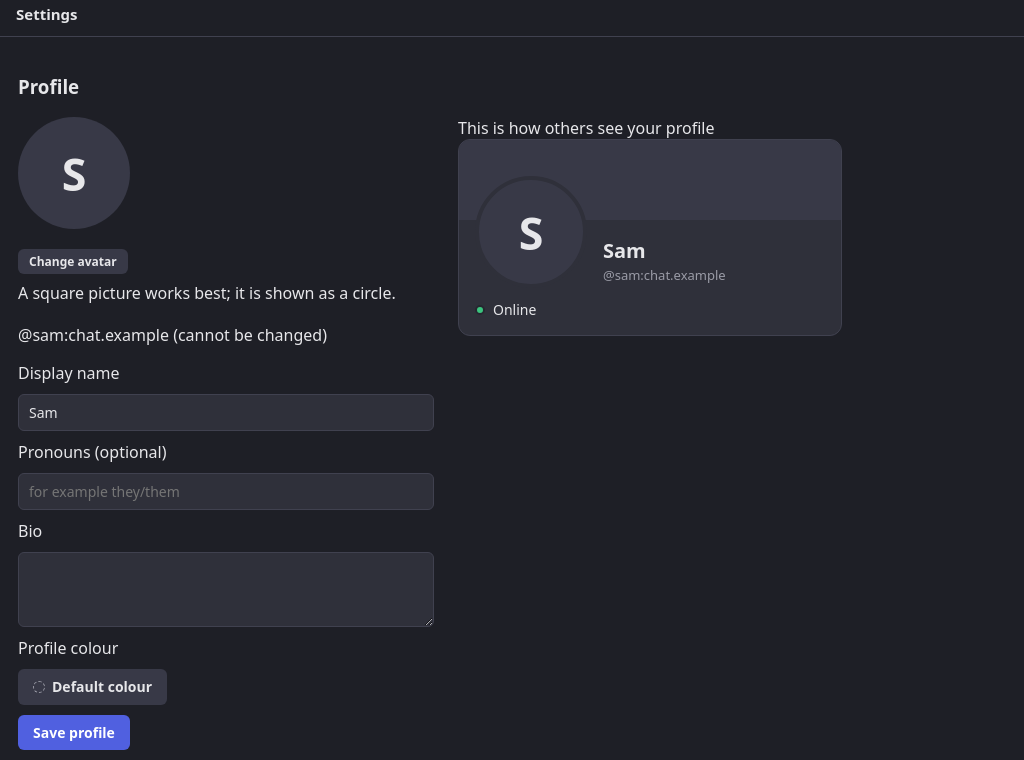
Scenario: Settings -> Profile › clears an earlier failure when the next save works
Click the button "Save profile": (74, 733) left=18, top=715, right=130, bottom=750
(page scrolled)
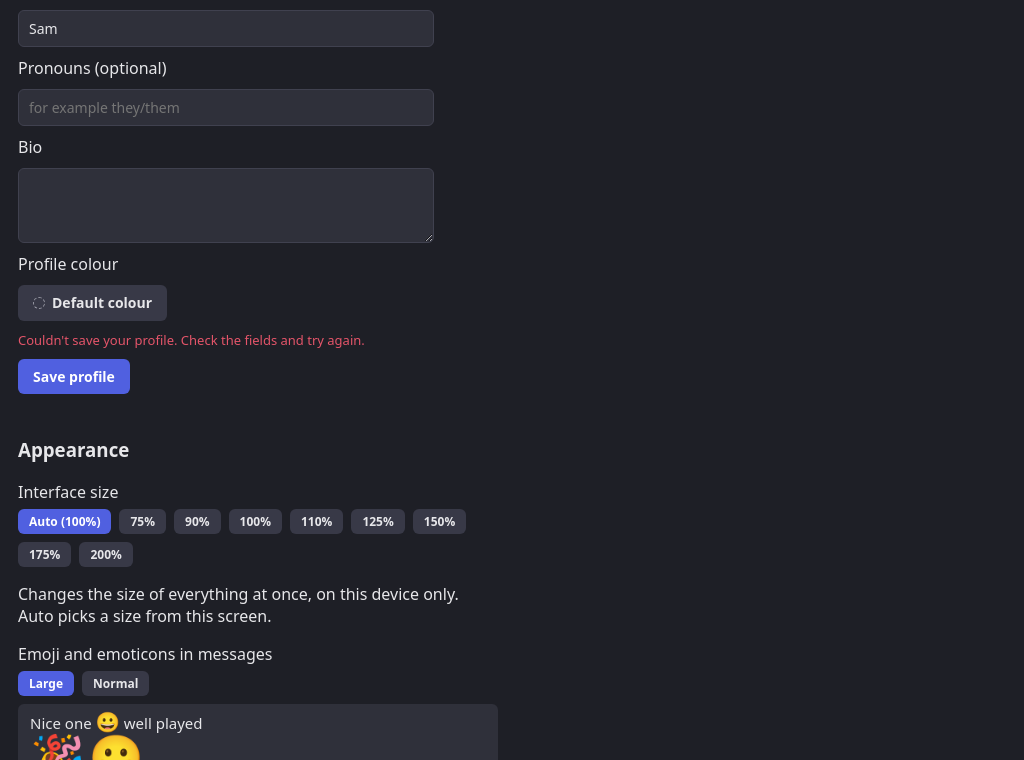
expect the text "Couldn't save your profile. Check the fields and try again." is shown: met, box left=18, top=331, right=365, bottom=349
Click the button "Save profile": (74, 377) left=18, top=359, right=130, bottom=394
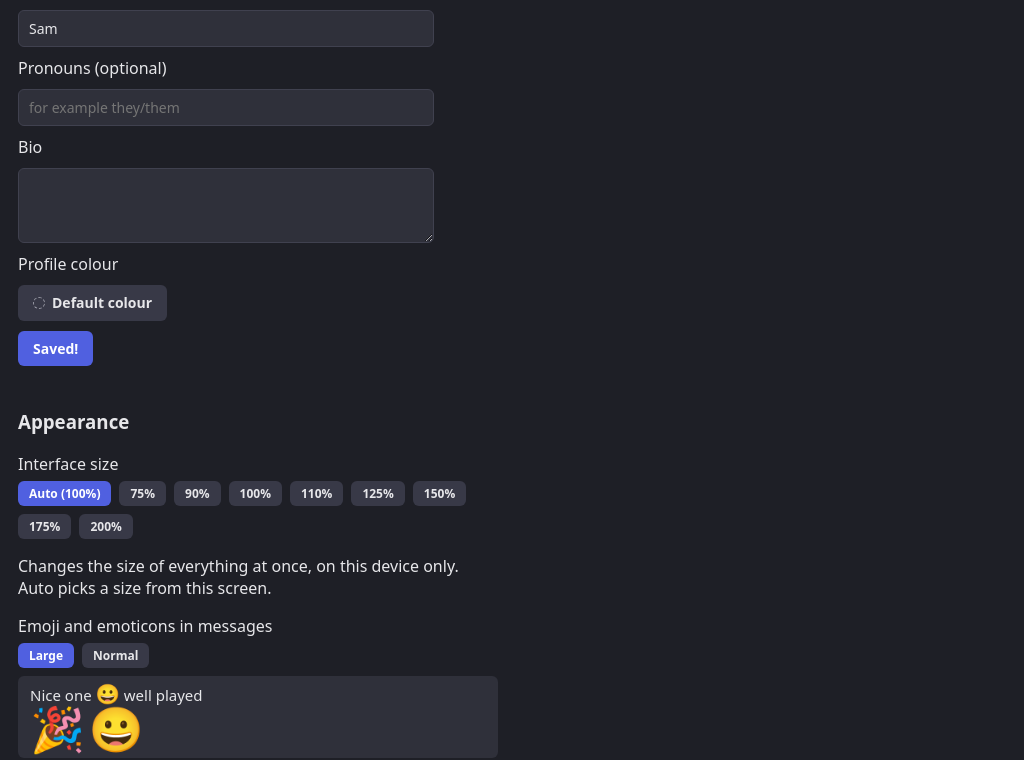
expect the text "Couldn't save your profile" is gone: met
